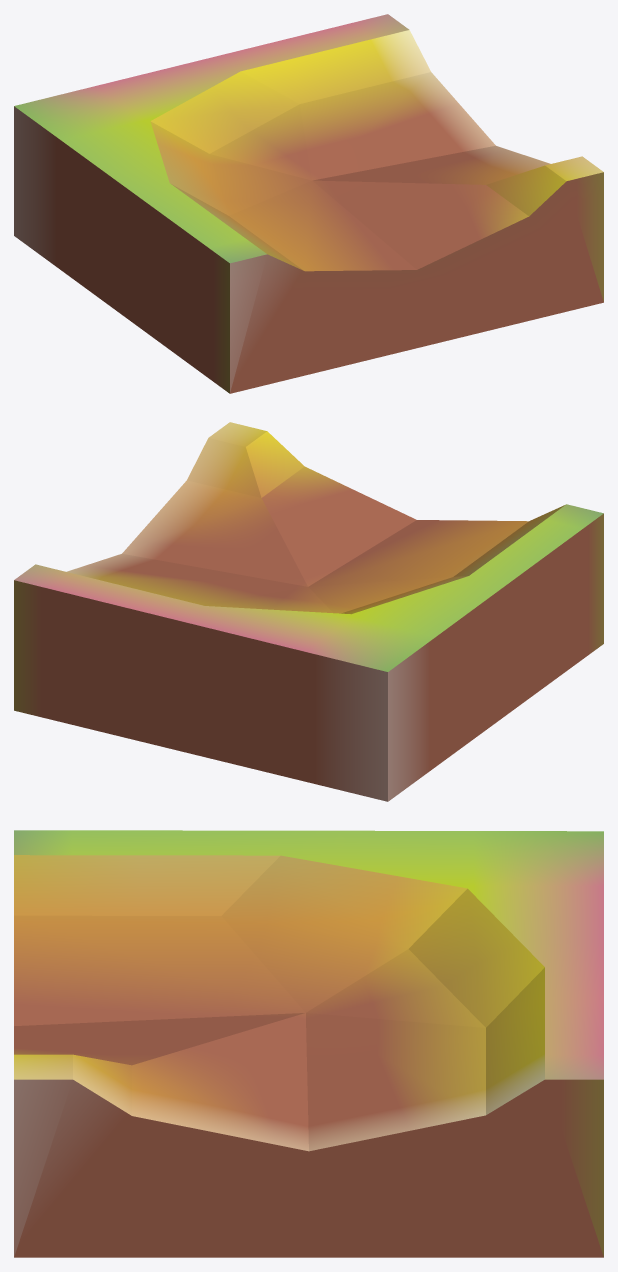
Rendered from RiverCorner.A.glb.
The picture shows the model from 3 angles, top to bottom: view 1: azimuth 30°, elevation 25°; view 2: azimuth 150°, elevation 25°; view 3: azimuth 270°, elevation 25°; orthographic projection. The views are drawn at different scales.
Parts seen in each view (by area): view 1: RiverCorner.A; view 2: RiverCorner.A; view 3: RiverCorner.A.
Boxes of the visible parts, x1,y1,x2,y2 form: RiverCorner.A: (14, 14, 603, 393); RiverCorner.A: (14, 422, 603, 801); RiverCorner.A: (14, 830, 603, 1257).
Bounding box in the file's own units: 3 × 1 × 3.
Materials: 1 (1 with a texture image).
